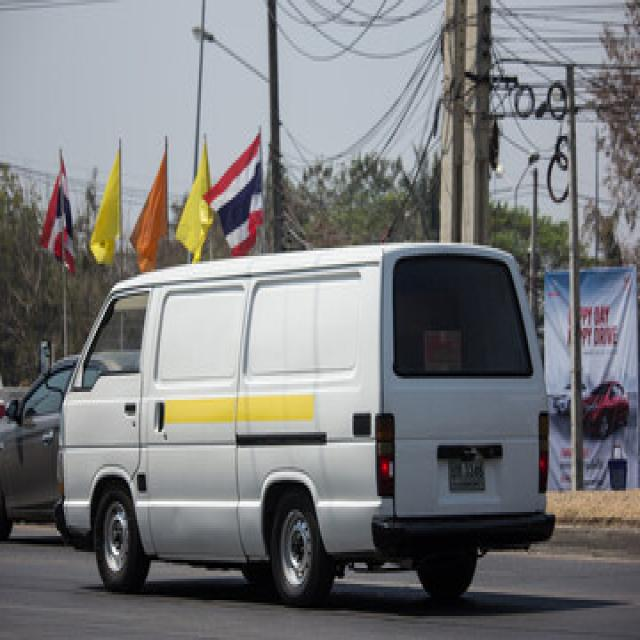van: (16, 243, 551, 603), (0, 355, 75, 539)
